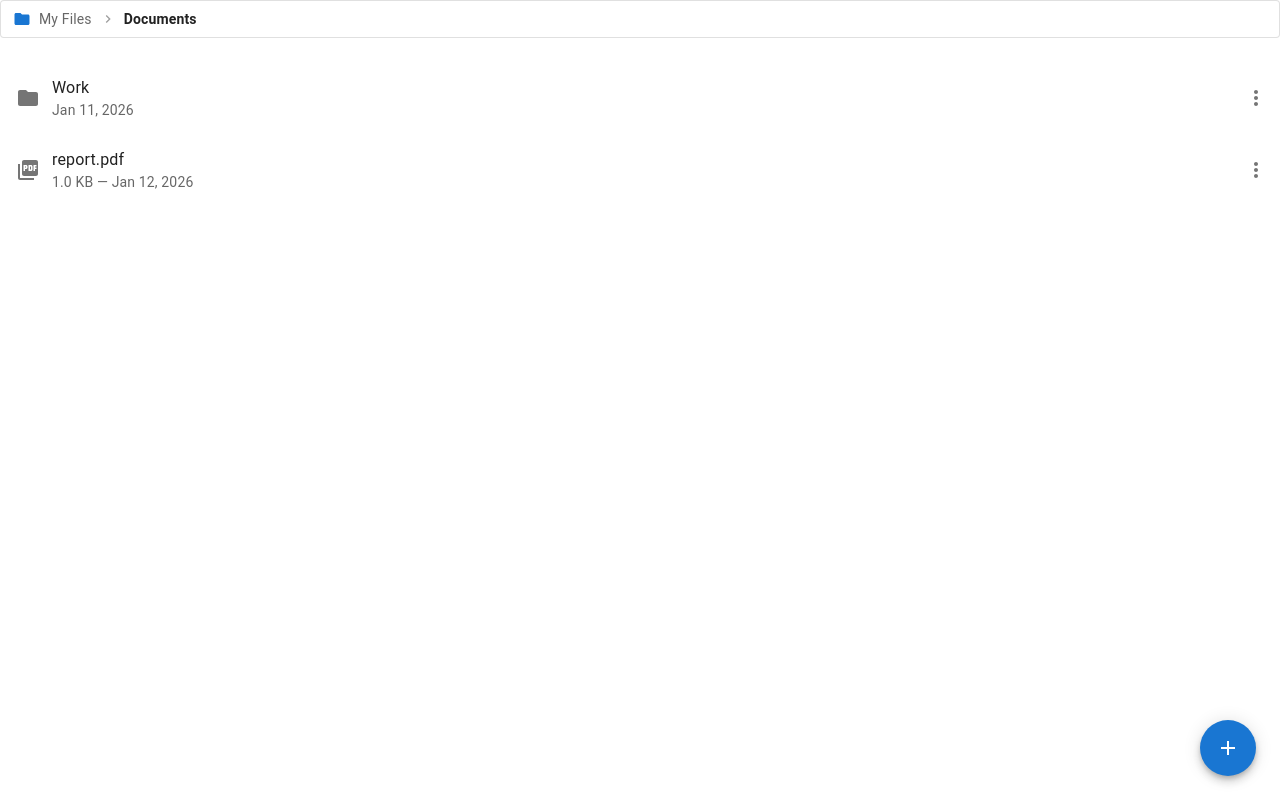
Test case: FolderPage › opens upload dialog from SpeedDial
Expected: the text "Work" is shown, [52, 78, 89, 97]
Click the button named "file actions". click: (1228, 748)
box: [1200, 720, 1256, 776]
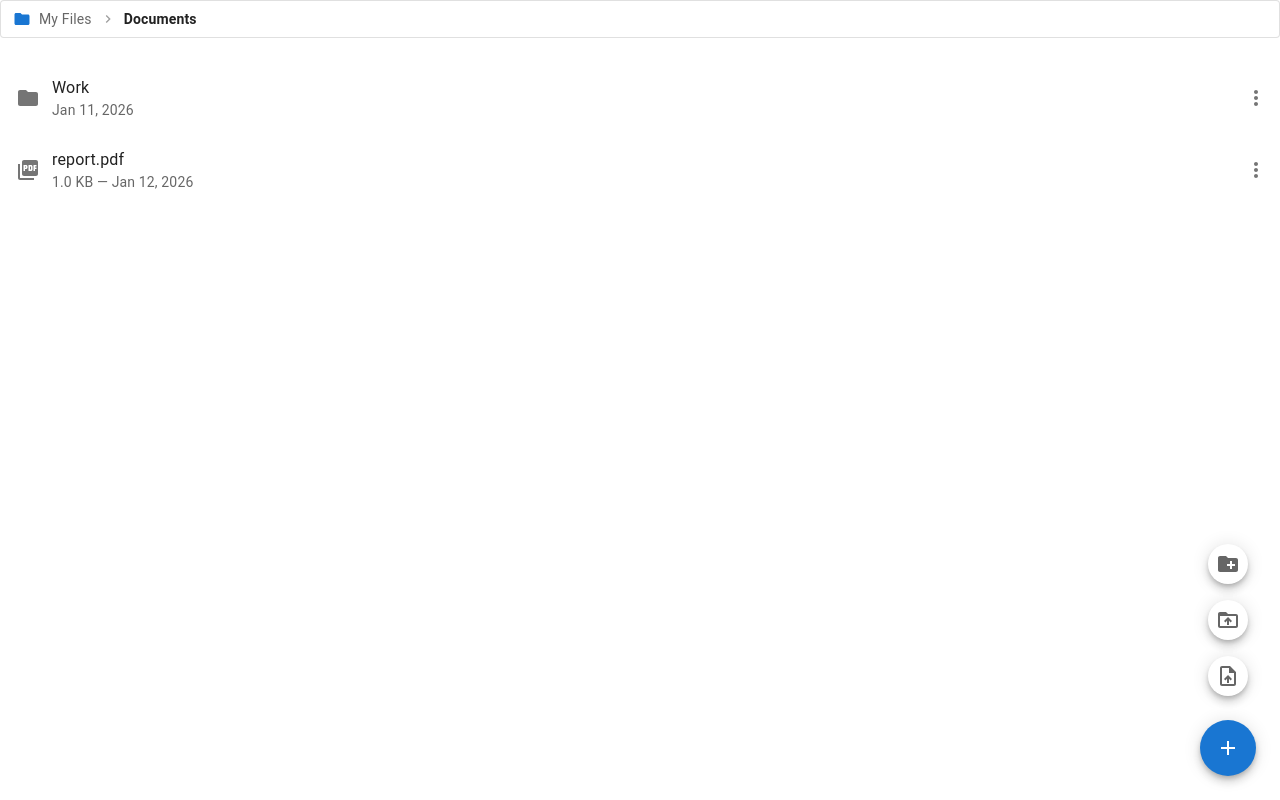
Click the menu item named "Upload file". click: (1228, 676)
box: [1208, 656, 1248, 696]
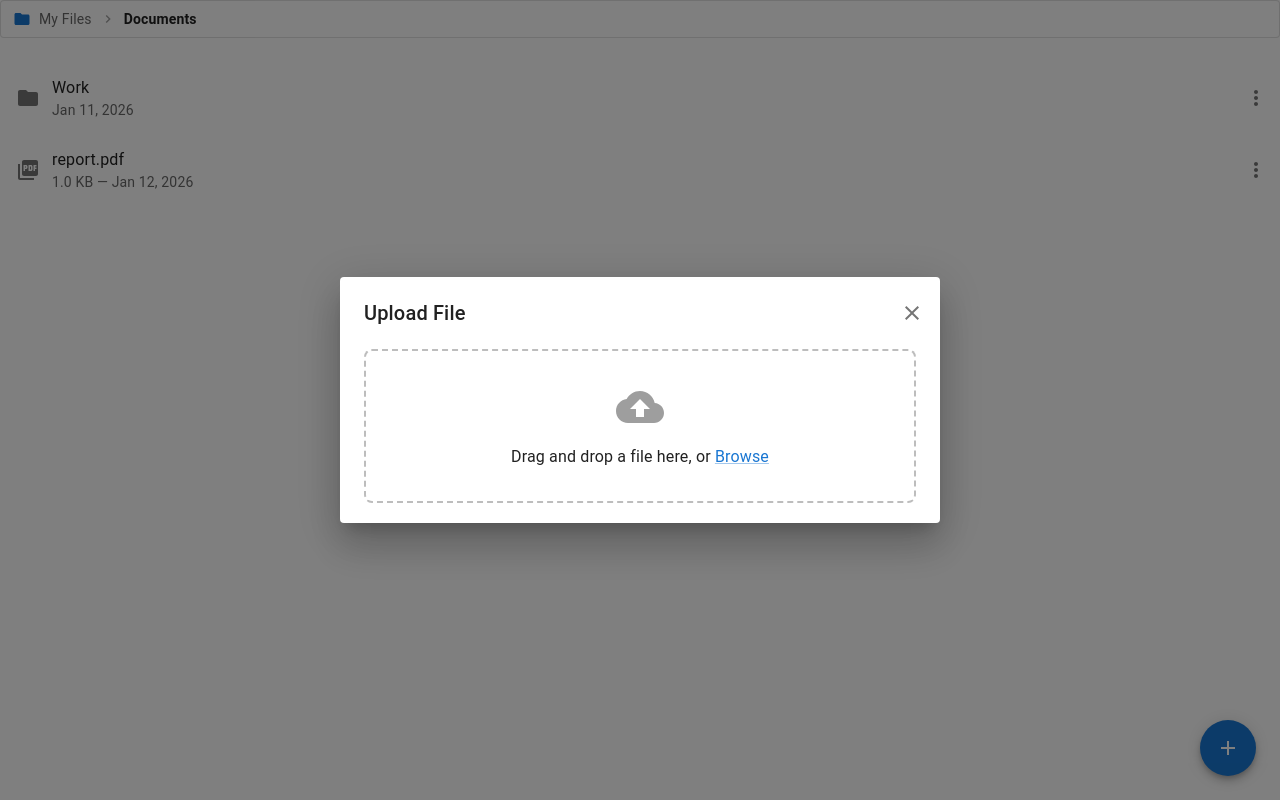
Result: the heading "Upload File" is shown at [364, 293, 932, 333]
